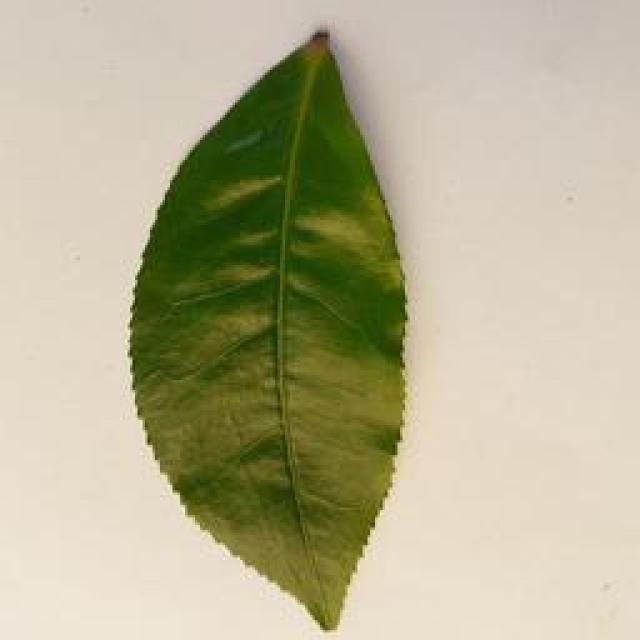Healthy: (130, 31, 420, 624)
